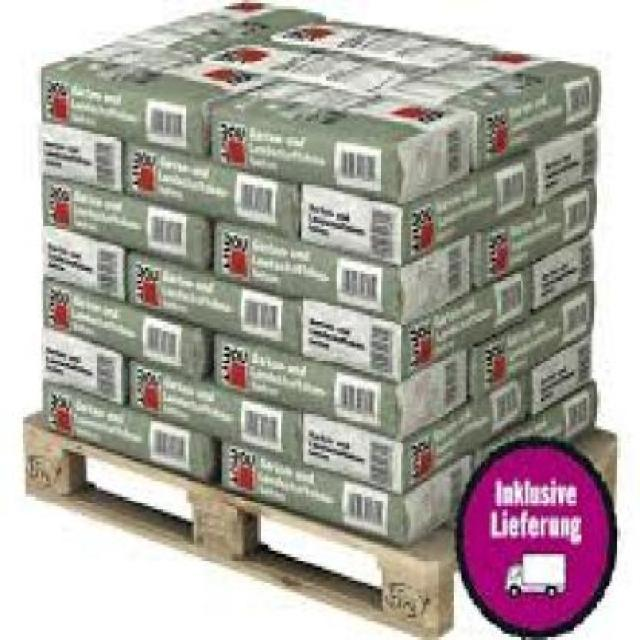gunny_bag: (127, 363, 403, 497), (217, 443, 407, 543), (212, 107, 402, 202), (43, 380, 210, 487), (213, 223, 399, 318), (45, 275, 212, 380), (217, 336, 394, 431), (41, 177, 219, 271), (129, 250, 295, 345), (126, 143, 298, 234), (473, 282, 592, 401), (479, 166, 595, 288), (42, 70, 208, 154), (476, 379, 599, 466), (477, 68, 598, 154), (295, 299, 400, 385), (297, 180, 400, 260), (41, 326, 127, 400), (43, 229, 125, 301), (527, 331, 593, 414), (40, 124, 120, 189), (528, 232, 594, 306), (535, 124, 594, 205)
